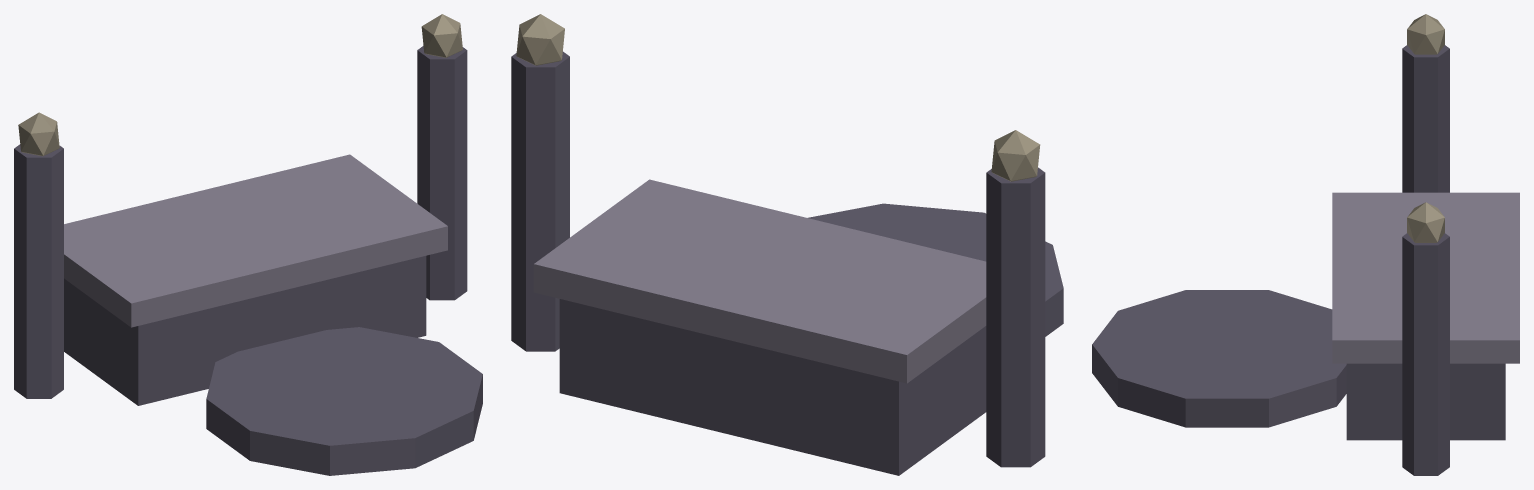
Rendered from tower-landmark.glb.
3 views of the same model, side by side, from view 1: azimuth 30°, elevation 25°; view 2: azimuth 150°, elevation 25°; view 3: azimuth 270°, elevation 25° (orthographic). The views are drawn at different scales.
Parts seen in each view (by area): view 1: tower-landmark; view 2: tower-landmark; view 3: tower-landmark.
Part boxes in pixels (x1,y1,x2,y2): tower-landmark: [14, 14, 482, 475]; tower-landmark: [511, 14, 1063, 475]; tower-landmark: [1092, 14, 1519, 475].
Bounding box in the file's own units: 3.06 × 1.84 × 2.69.
